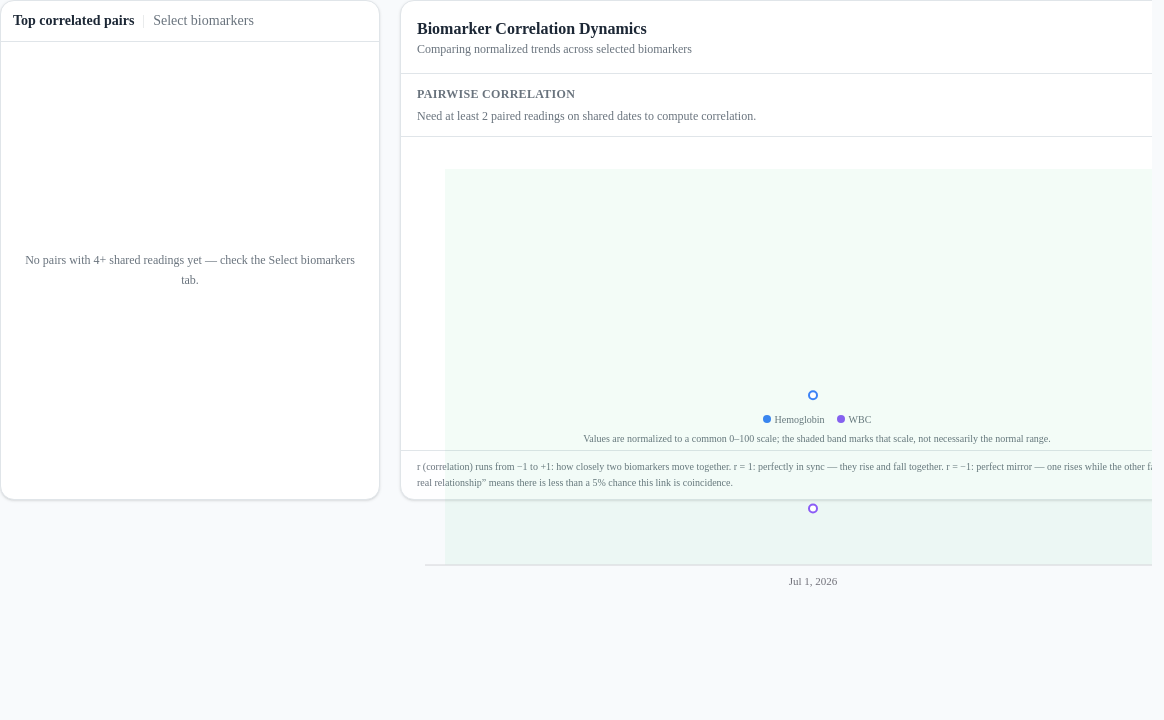
Test: CorrelationChart › shows single-measurement biomarkers in the picker (onboarding case)
Click the button "Select biomarkers": {"x": 204, "y": 21} [153,11,254,31]
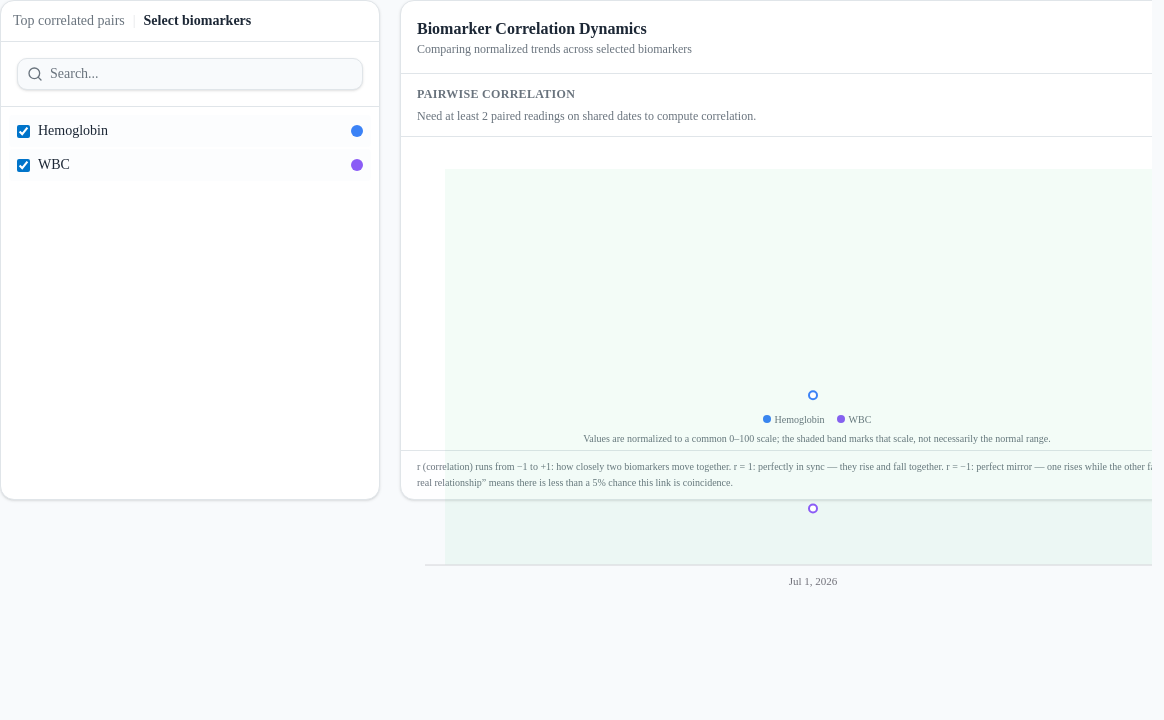
Check: the checkbox labelled "Hemoglobin" is shown, box [17,124,30,138]
Check: the checkbox labelled "WBC" is shown, box [17,158,30,172]
